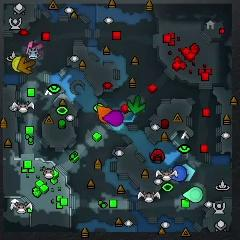p1: (169, 165, 188, 180)
p2: (183, 186, 203, 202)
p3: (103, 110, 124, 126)
p4: (11, 56, 25, 71)
p5: (97, 105, 112, 122)
x1: (25, 41, 43, 53)
x3: (182, 162, 195, 180)
x4: (126, 95, 145, 114)
x5: (17, 56, 36, 72)
